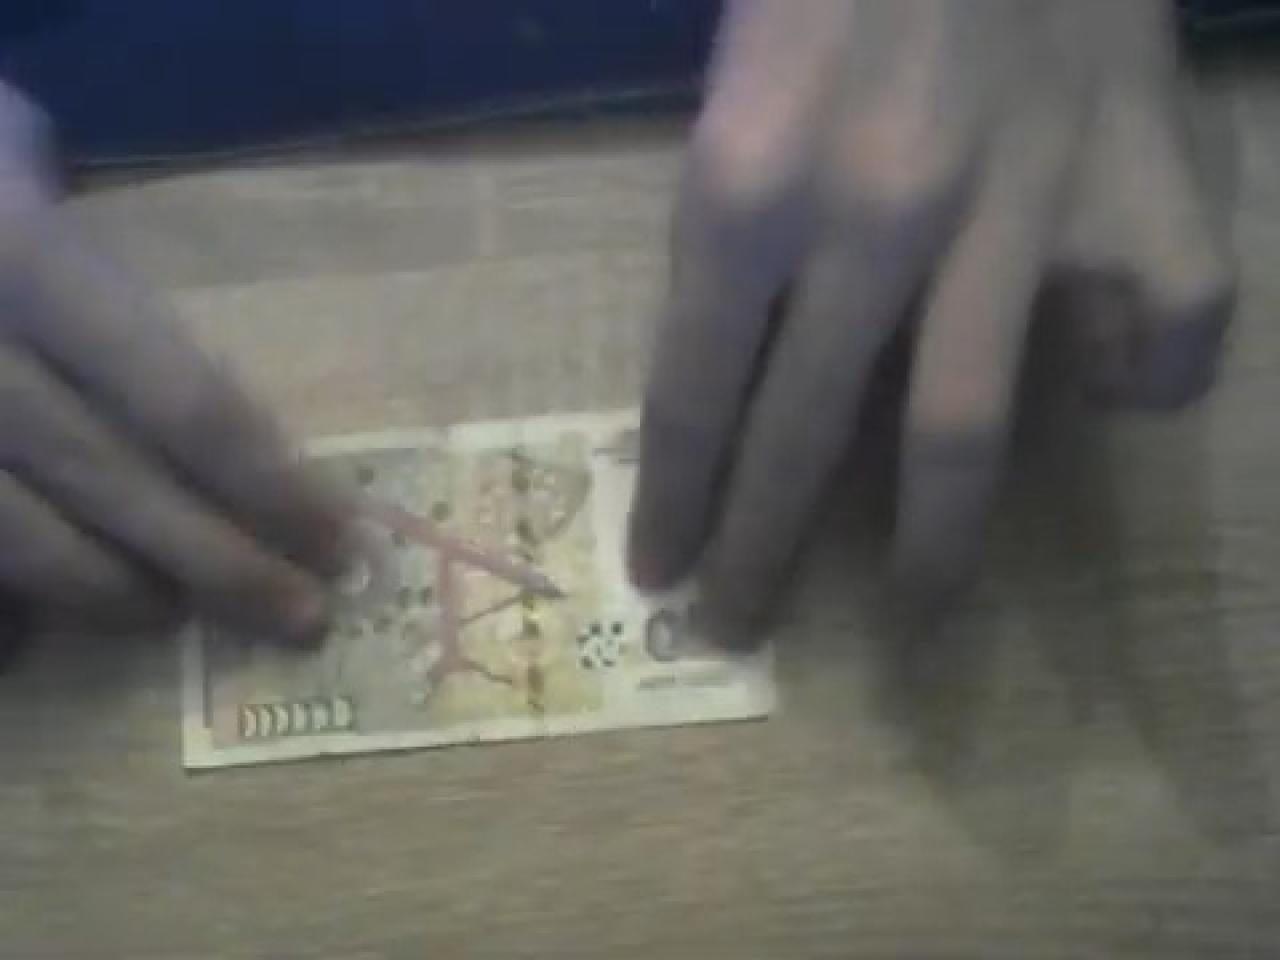10leva: (181, 405, 776, 776)
